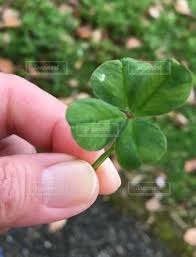4-clover: (69, 58, 192, 168)
